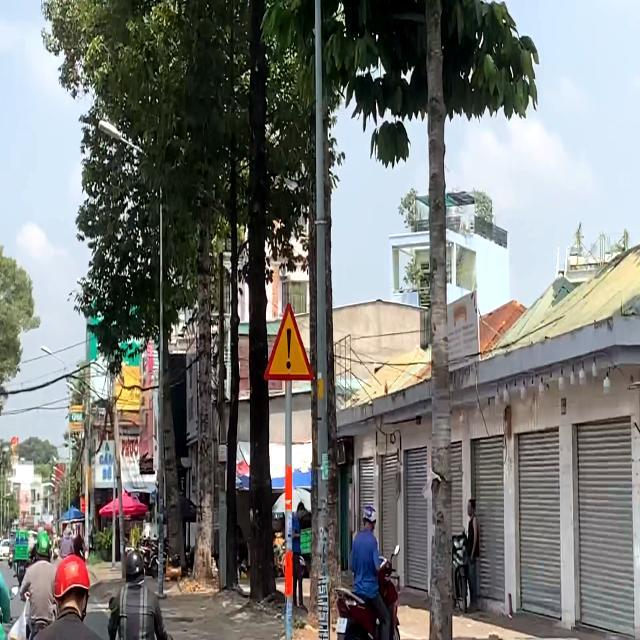W-233: (265, 299, 314, 380)
